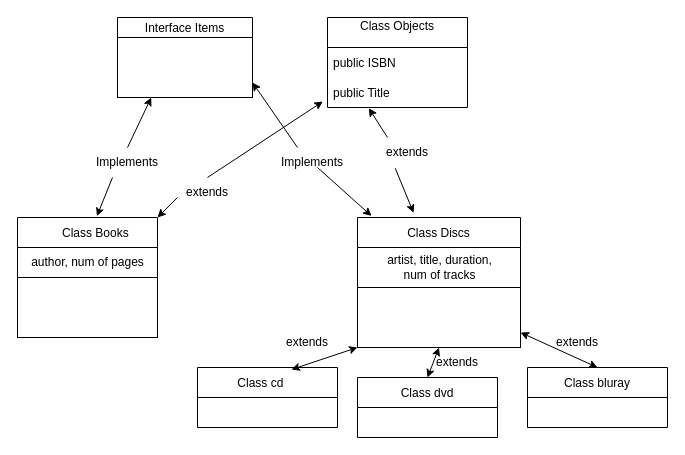
Some shapes in this 685 by 455 pixel diagram are drawn without their labels. The shapes that lost their labels are listed below. From the top down, each one's centre as x and y in pixels, then its label:
At point 184,67: "abstract method for downloading into a file".
At point 87,307: "implements abstract method for downloading into ebook or audio file".
At point 438,317: "implements abstract method for downloading into audio or video file".
